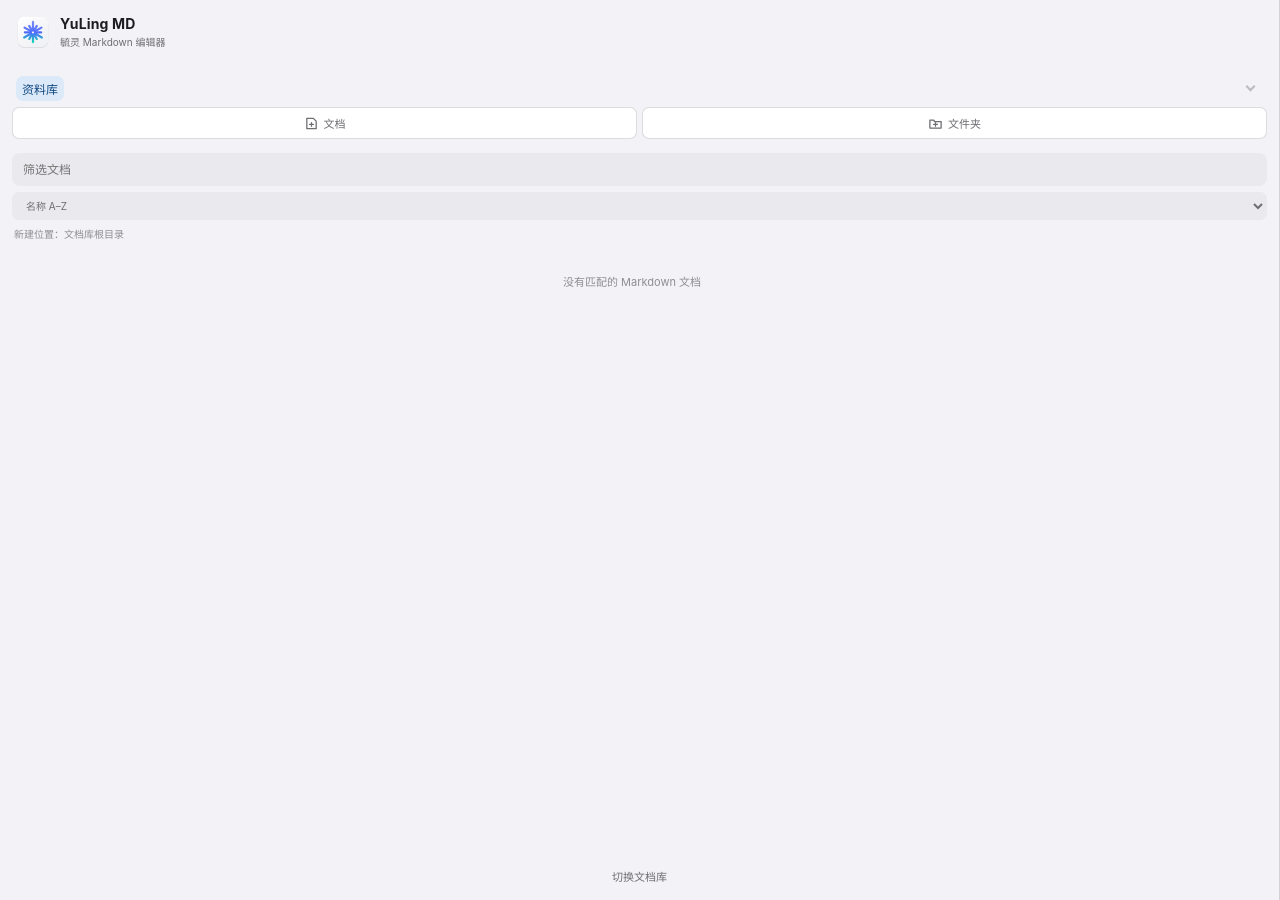
FileSidebar blank document location › rejects invalid folder names and cancels the inline editor with Escape
The image size is (1280, 900).
Click the button with aria-label "新建文件夹" at (954, 123), box [642,107,1267,139]
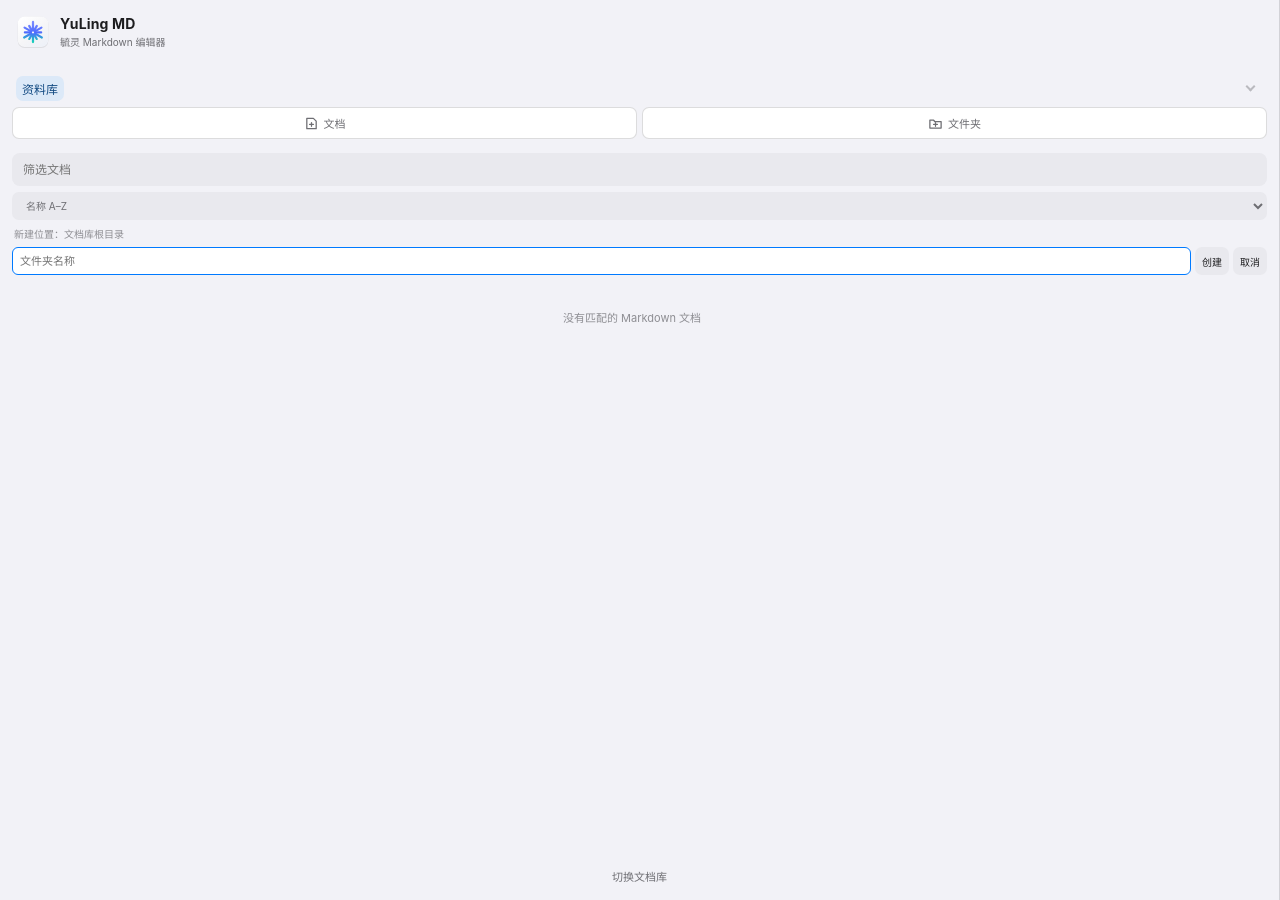
Type "../资料" into the field labelled "文件夹名称" at (602, 261), box [12,247,1191,275]
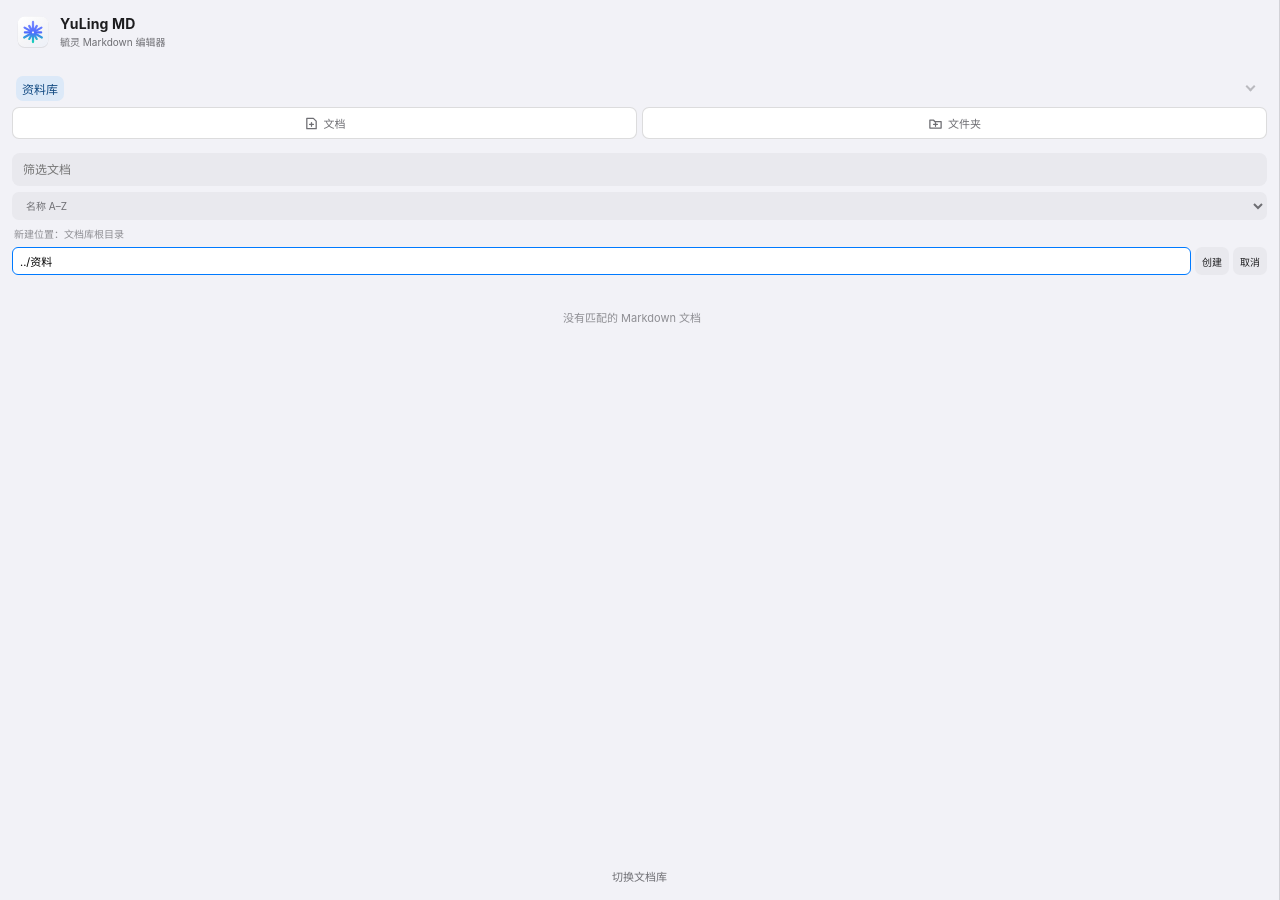
Press Enter in the field named "文件夹名称", box [12,247,1191,275]
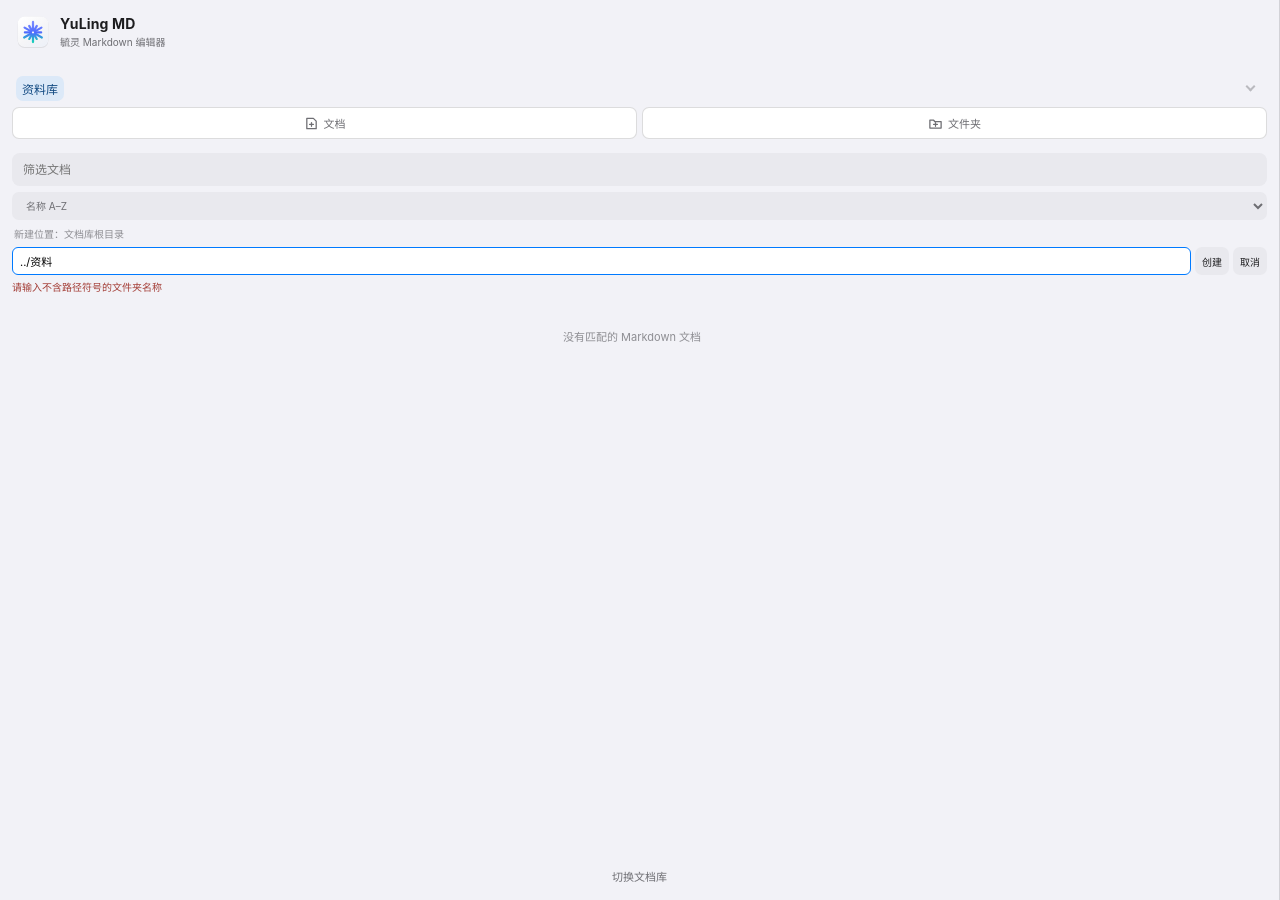
Result: the message shows "路径符号" at [12,281,162,293]
Press Escape in the field named "文件夹名称", box [12,247,1191,275]
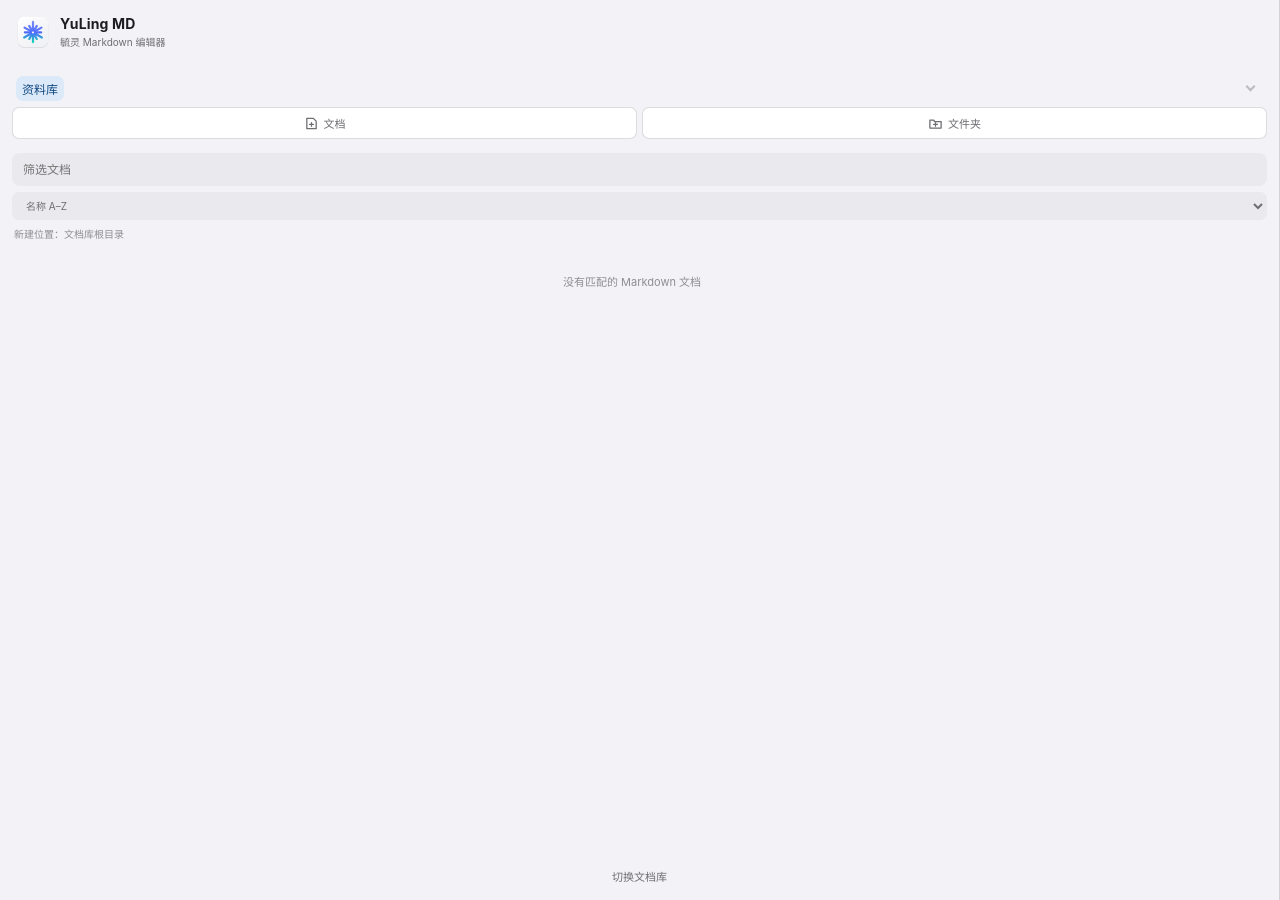
Result: the message "文件夹名称" is gone
